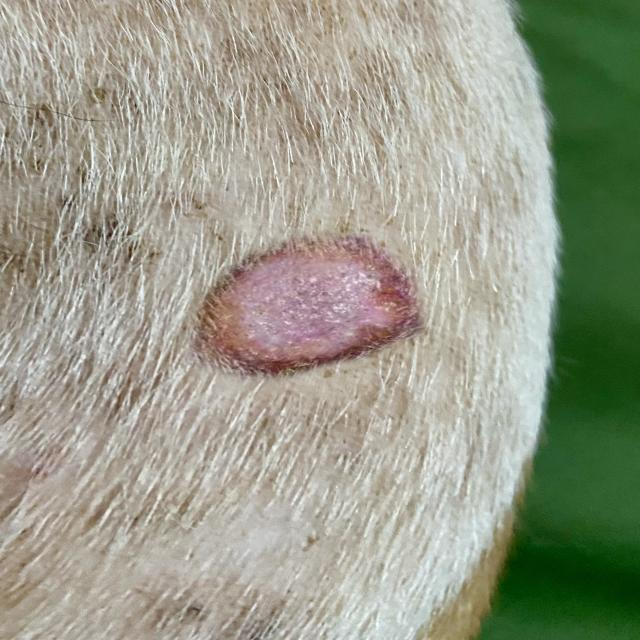ringworm: (168, 214, 458, 392)
